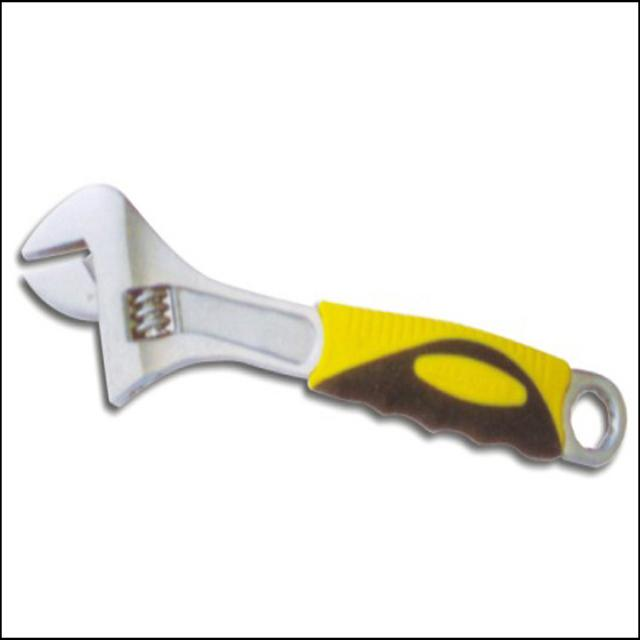wrench: (7, 153, 640, 545)
